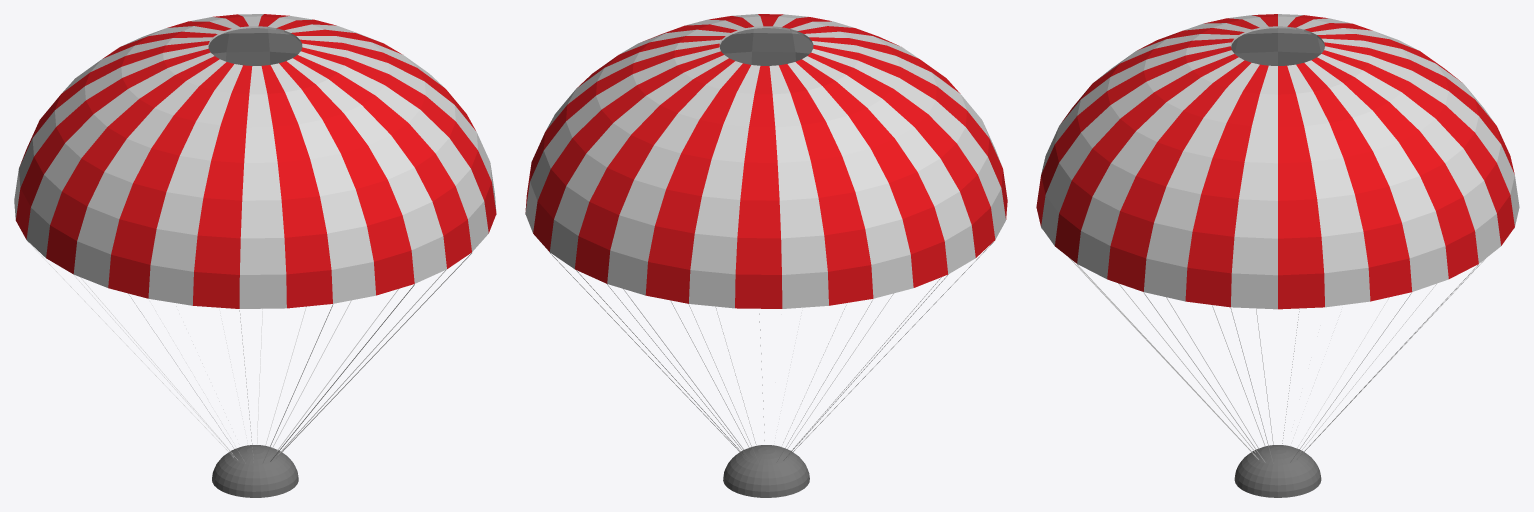
File: 125chute.fbx
3 views of the same model, side by side, from view 1: azimuth 30°, elevation 25°; view 2: azimuth 150°, elevation 25°; view 3: azimuth 270°, elevation 25° (orthographic).
Visible parts, largest first — view 1: Sphere.001, Sphere; view 2: Sphere.001, Sphere; view 3: Sphere.001, Sphere.
Part boxes in pixels (x1,y1,x2,y2): Sphere.001: (14, 14, 496, 463); Sphere: (212, 445, 298, 497); Sphere.001: (525, 14, 1007, 463); Sphere: (723, 445, 809, 497); Sphere.001: (1036, 14, 1519, 463); Sphere: (1234, 445, 1321, 497).
Size of the model in its own units: 250 by 248 by 250.
